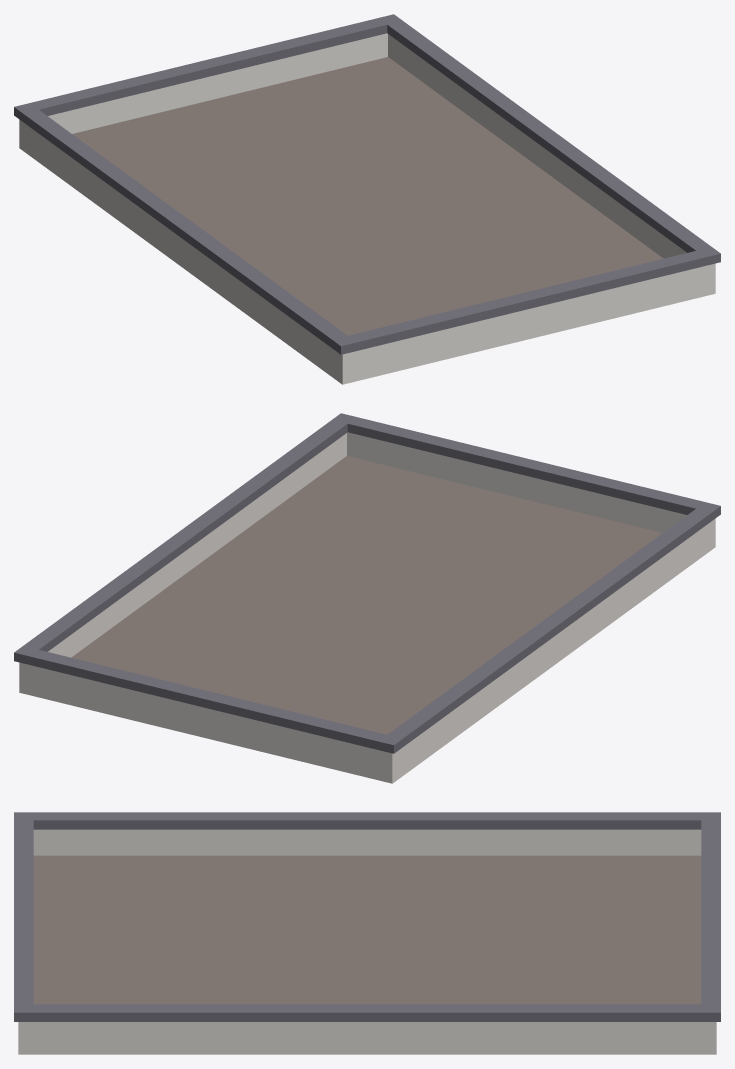
Rendered from SM_Roof_NarrowFlatPlain_White_546_01.gltf.
3 renders of one model, top to bottom at view 1: azimuth 30°, elevation 25°; view 2: azimuth 150°, elevation 25°; view 3: azimuth 270°, elevation 25°, orthographic. The views are drawn at different scales.
Parts seen in each view (by area): view 1: SM_Roof_NarrowFlatPlain_White_546_01; view 2: SM_Roof_NarrowFlatPlain_White_546_01; view 3: SM_Roof_NarrowFlatPlain_White_546_01.
Boxes of the visible parts, bbox=[...] form: SM_Roof_NarrowFlatPlain_White_546_01: bbox=[14, 14, 720, 384]; SM_Roof_NarrowFlatPlain_White_546_01: bbox=[14, 413, 720, 783]; SM_Roof_NarrowFlatPlain_White_546_01: bbox=[14, 812, 720, 1054].
Bounding box in the file's own units: 5.56 × 0.57 × 8.29.
Materials: 1 (1 with a texture image).
